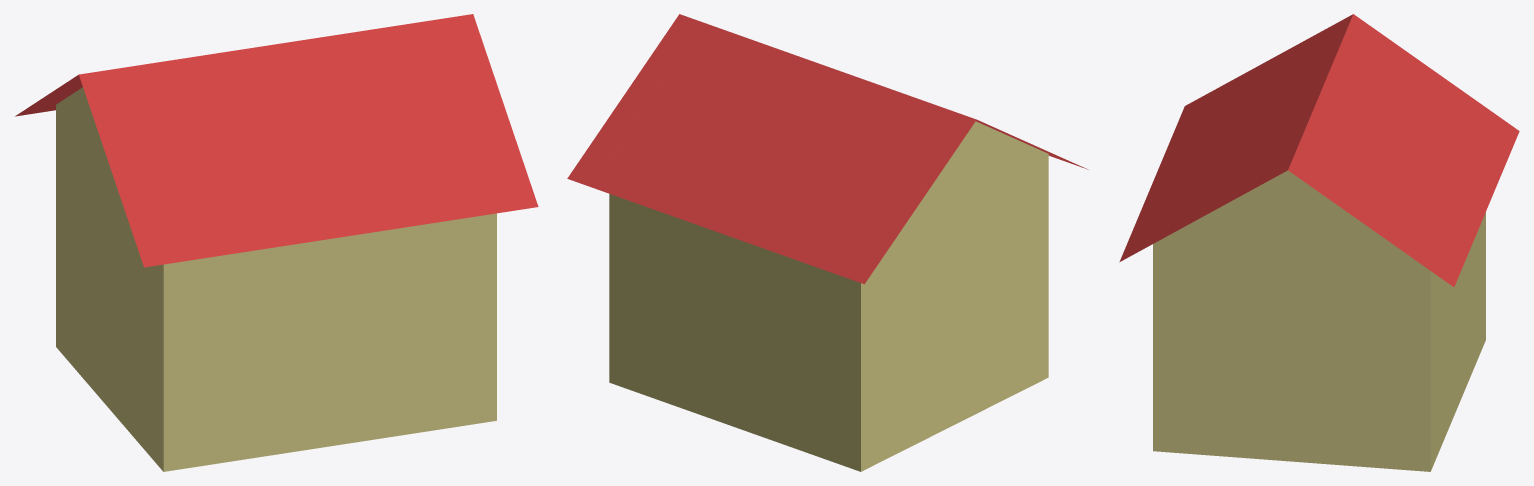
3 views of the same model, side by side, from view 1: azimuth 30°, elevation 25°; view 2: azimuth 150°, elevation 25°; view 3: azimuth 270°, elevation 25° (orthographic). The views are drawn at different scales.
Size of the model in its own units: 14.79 by 13.8 by 11.54.
